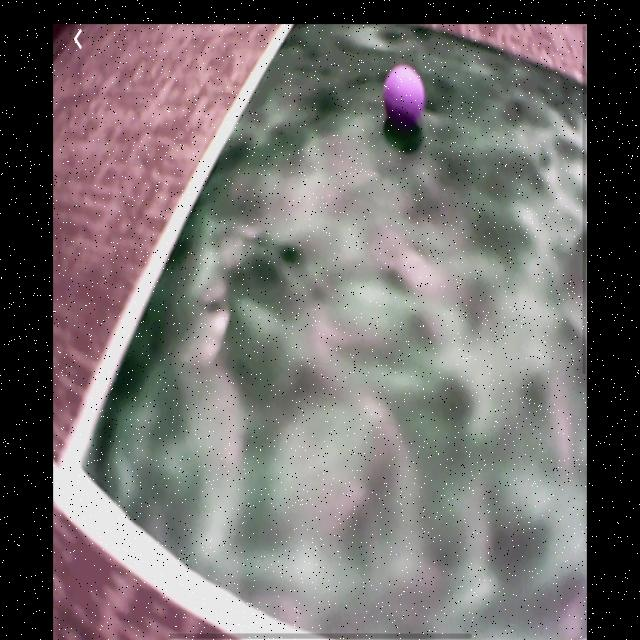ball: (385, 68, 424, 126)
